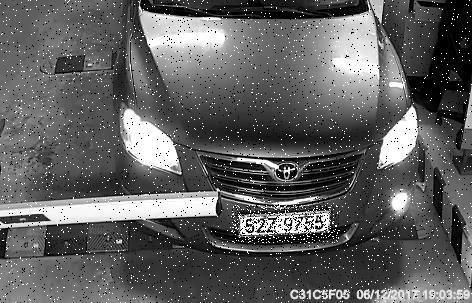License-plate: (233, 206, 340, 244)
